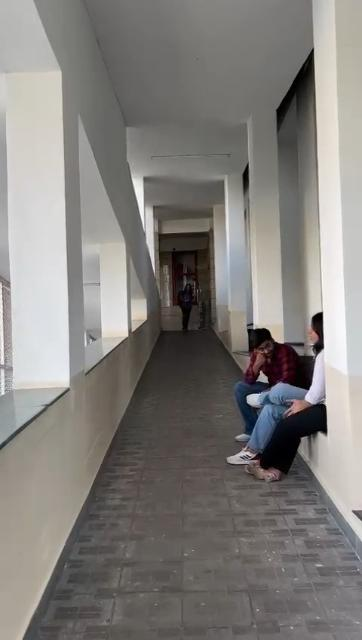floor: (35, 337, 362, 640)
moving-obj: (233, 322, 331, 490)
wall: (3, 308, 164, 634), (10, 5, 68, 383), (324, 17, 361, 481), (98, 103, 136, 345), (245, 112, 279, 316), (215, 162, 241, 304)
